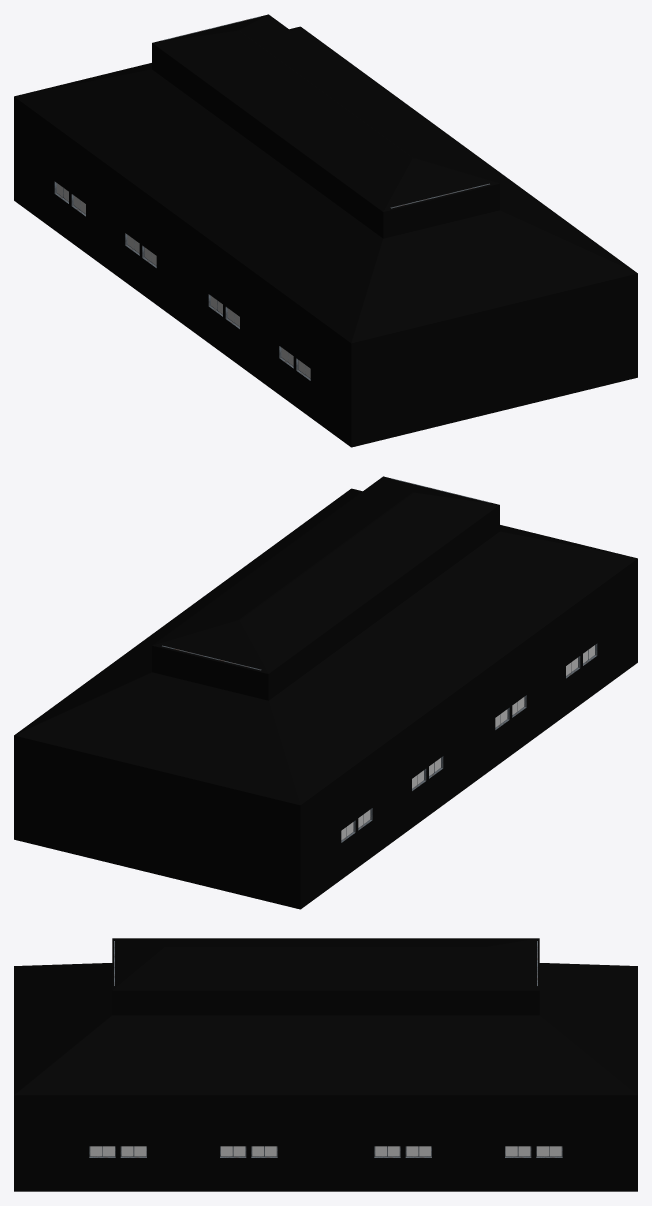
Rendered from build05.dae.
The picture shows the model from 3 angles, top to bottom: view 1: azimuth 30°, elevation 25°; view 2: azimuth 150°, elevation 25°; view 3: azimuth 270°, elevation 25°; orthographic projection. The views are drawn at different scales.
Parts seen in each view (by area): view 1: group_17 (×2), group_13 (×2); view 2: group_17 (×2), group_13 (×2); view 3: group_17 (×2), group_13 (×2), group_7.
Part boxes in pixels (x1,y1,x2,y2): group_17 (×2): (14,14,636,446); group_13 (×2): (16,14,637,447); group_17 (×2): (15,476,637,908); group_13 (×2): (14,476,635,909); group_17 (×2): (14,938,637,1191); group_13 (×2): (14,938,637,1094); group_7: (164,946,487,947).
Bounding box in the file's own units: 675 × 1376 × 438.
